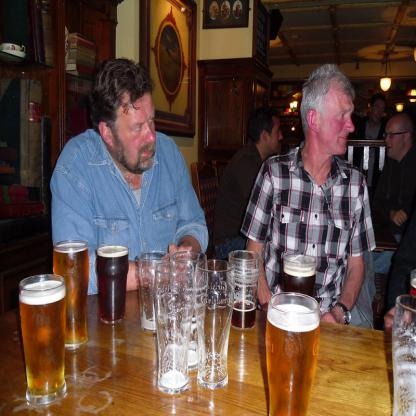drinking: (264, 292, 321, 415), (18, 273, 68, 406), (52, 240, 90, 349), (283, 253, 316, 340), (96, 245, 129, 325), (228, 250, 259, 330)
